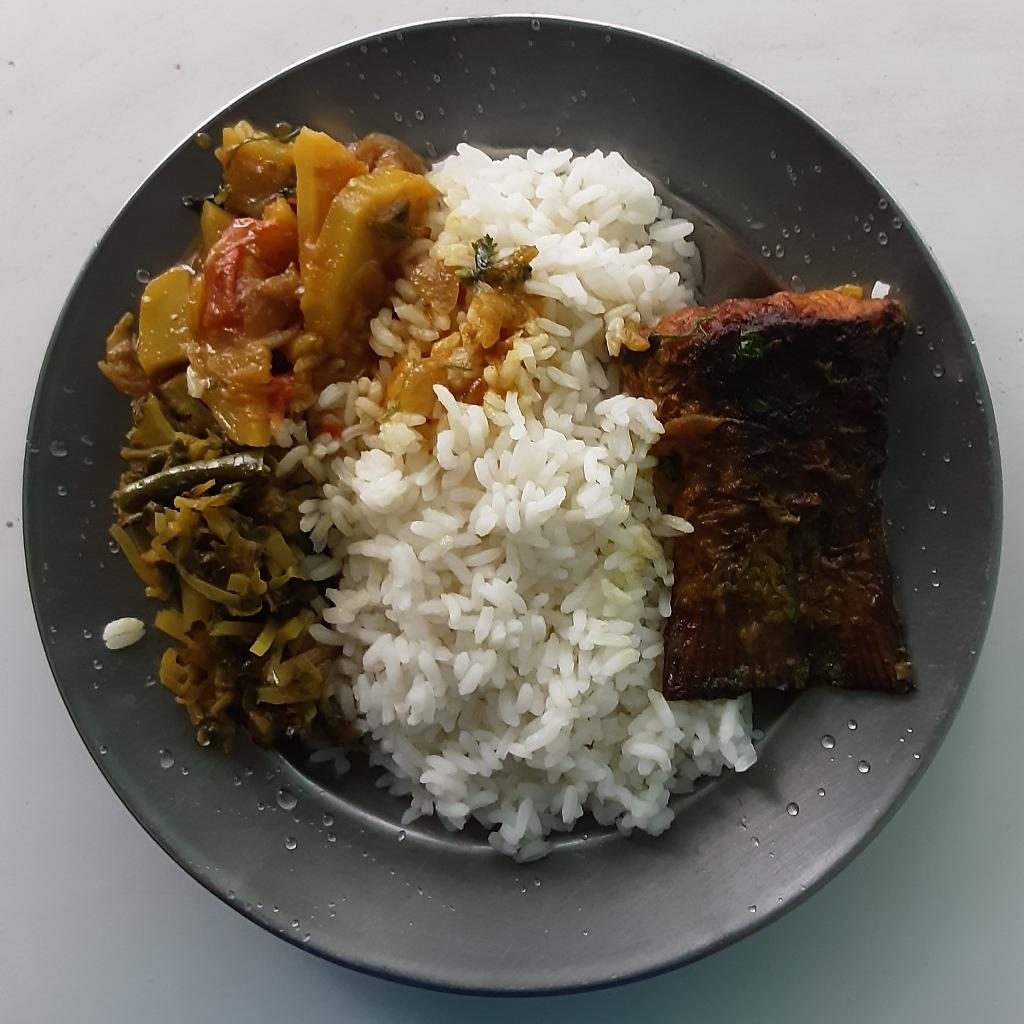fish: (623, 285, 919, 703)
korola-vaji: (111, 400, 328, 742)
potato: (135, 115, 436, 442)
rice: (279, 143, 762, 859)
tomato: (190, 213, 267, 329)
